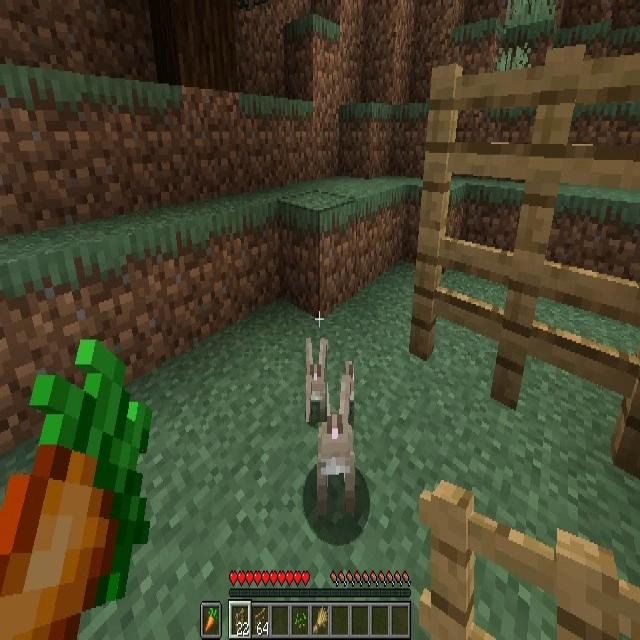duck: (318, 361, 354, 519), (306, 338, 327, 422)
